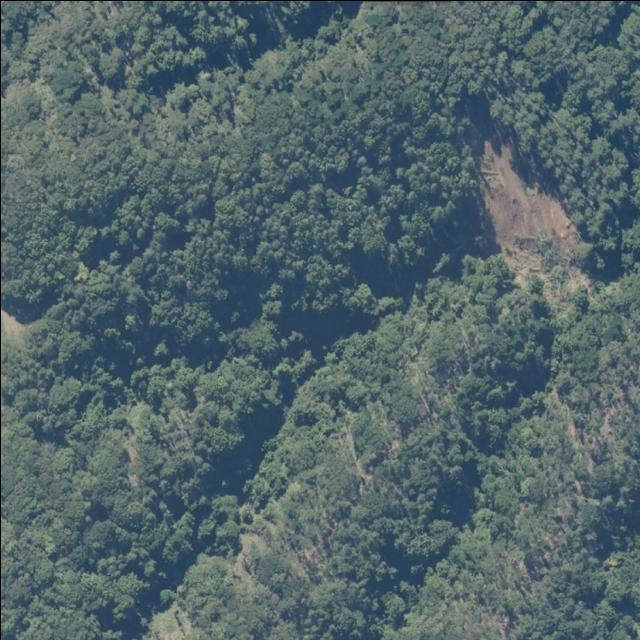landslide: (465, 95, 590, 302)
